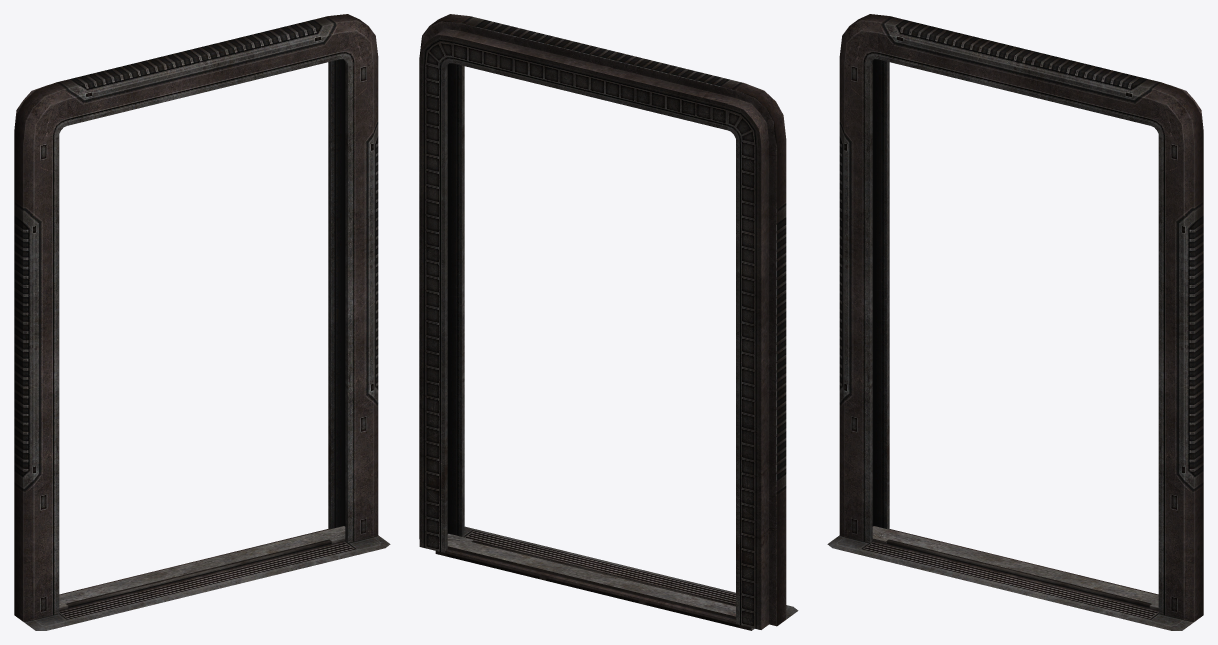
The model's file is 03_02_security_shutter_door_open_staticprop.dae.
The picture shows the model from 3 angles, left to right: view 1: azimuth 30°, elevation 25°; view 2: azimuth 150°, elevation 25°; view 3: azimuth 330°, elevation 25°; orthographic projection.
Visible parts, largest first — view 1: security_shutter_door_open_polySurface6, security_shutter_door_open_shutter_door; view 2: security_shutter_door_open_polySurface6, security_shutter_door_open_shutter_door; view 3: security_shutter_door_open_polySurface6, security_shutter_door_open_shutter_door.
Part boxes in pixels (<box>): security_shutter_door_open_polySurface6: <box>14,14,390,630</box>; security_shutter_door_open_shutter_door: <box>59,526,345,610</box>; security_shutter_door_open_polySurface6: <box>419,14,798,629</box>; security_shutter_door_open_shutter_door: <box>435,533,754,630</box>; security_shutter_door_open_polySurface6: <box>827,14,1203,630</box>; security_shutter_door_open_shutter_door: <box>872,526,1158,610</box>.
Bounding box in the file's own units: 1.98 × 2.82 × 0.3087.
